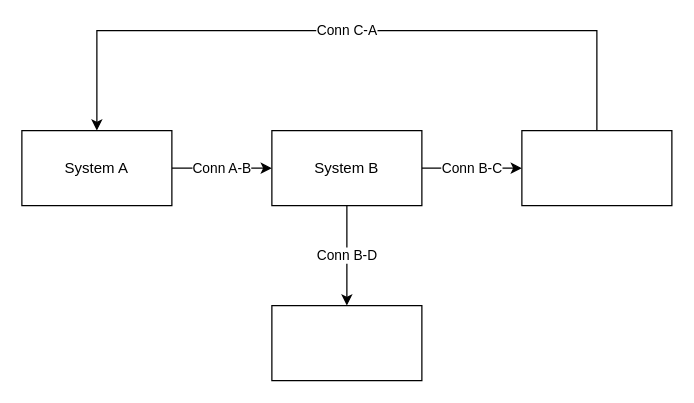
Some shapes in this 694 by 403 pixel diagram are drawn without their labels. Each missing label, with the box of its shape:
System C: (521, 129, 672, 206)
System D: (271, 304, 422, 381)
